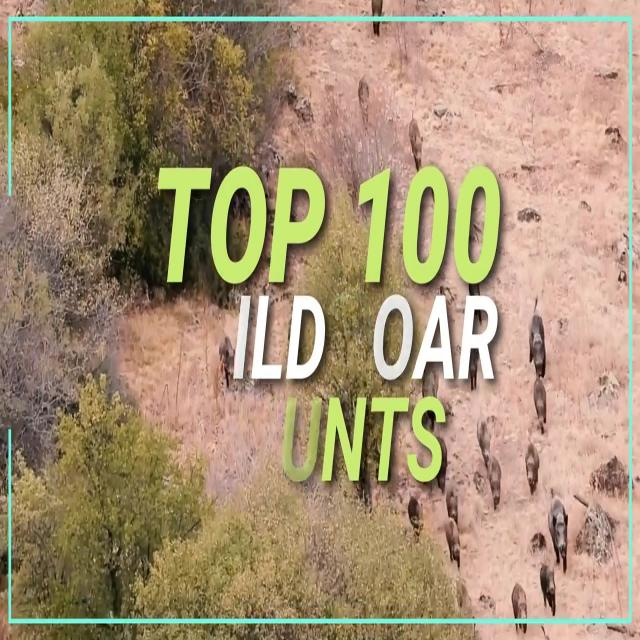pig: (522, 295, 552, 376), (545, 492, 574, 574), (512, 427, 549, 491), (400, 95, 429, 169), (439, 508, 468, 582), (528, 546, 558, 613), (480, 439, 503, 526), (346, 68, 375, 130), (505, 585, 537, 640), (214, 323, 236, 393), (526, 372, 554, 427), (436, 481, 463, 526), (473, 418, 497, 461)
